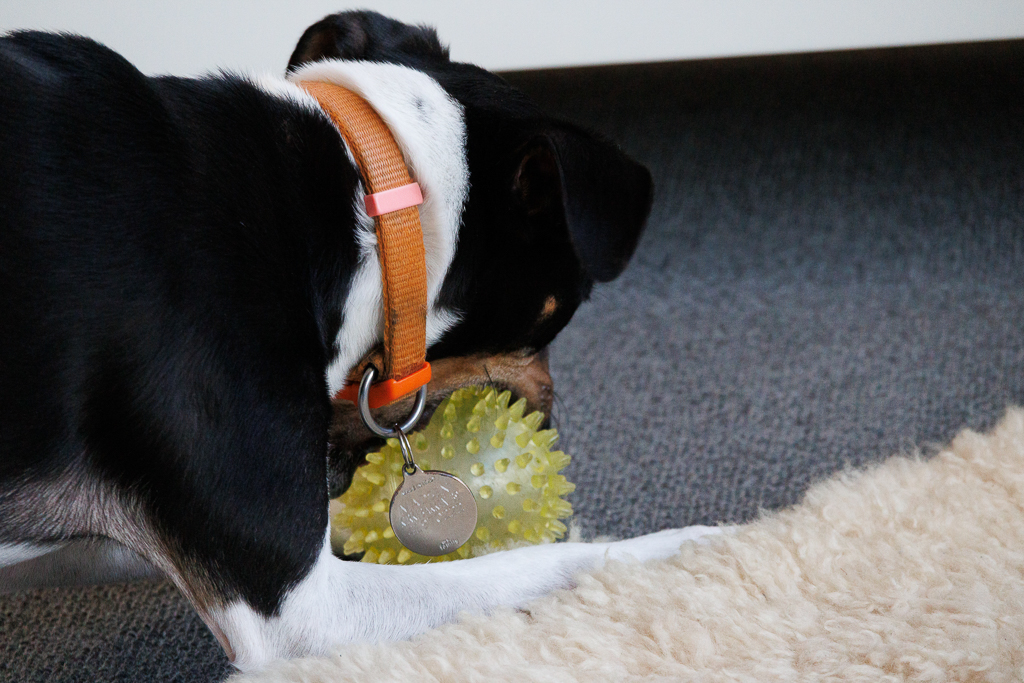Dog: (0, 7, 764, 679)
